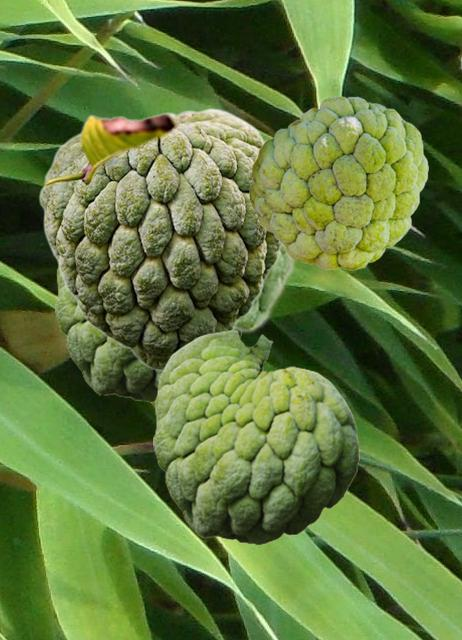atis: (38, 107, 282, 370), (153, 329, 358, 544), (249, 96, 427, 269), (55, 262, 242, 401), (236, 138, 296, 336)
